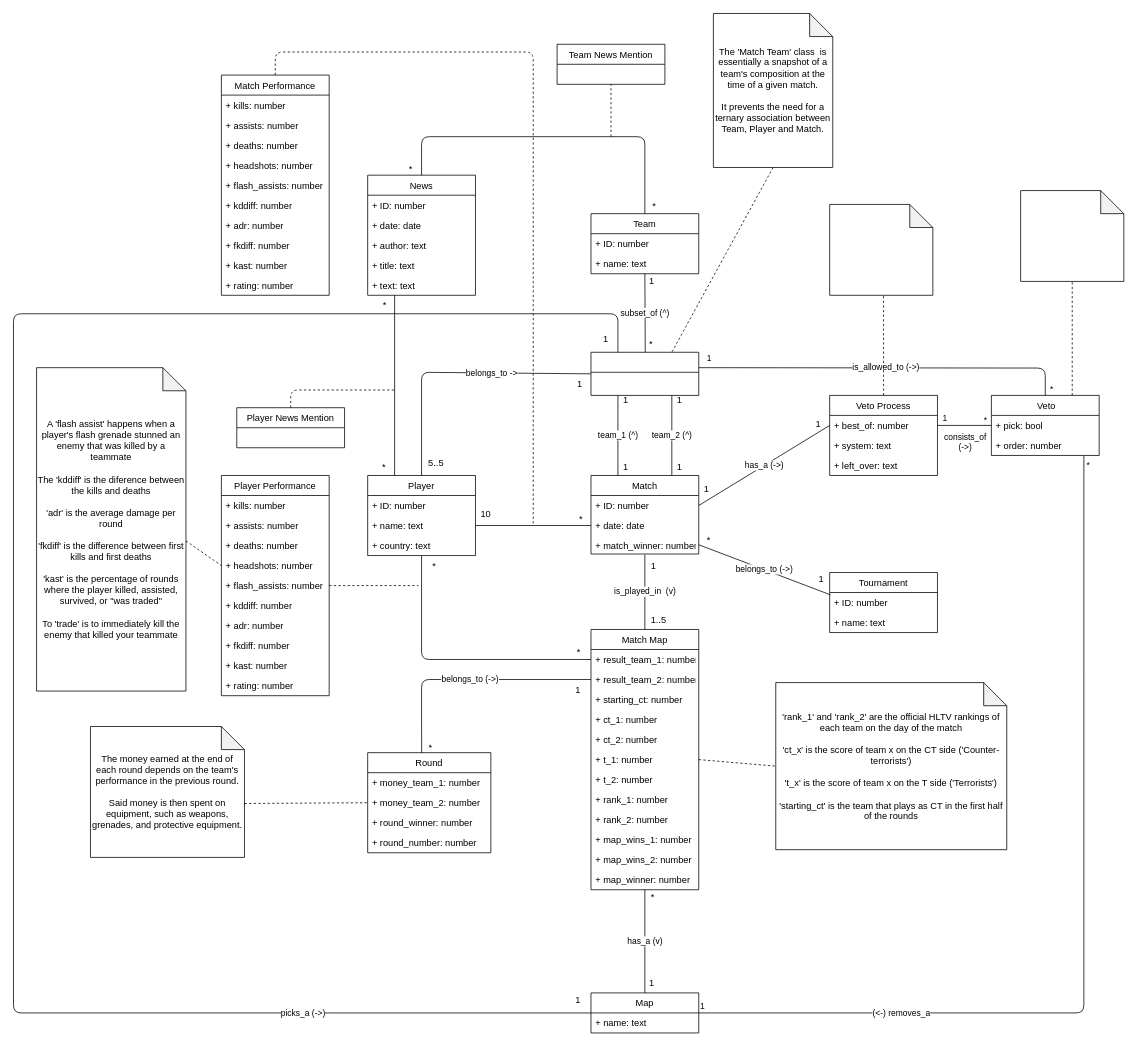
The diagram is 1137 pixels wide and 1049 high, and some of its shapes have lost their labels. The shapes that lost their labels are listed below. From the top down, each one's centre as x and y in pixels, then its label:
At (881,249): "Matches are most commonly played with a best-of-1 or best-of-3 approach.".
At (1072,235): "Teams get the chance to exclude 3 maps (and pick 1)".
At (644,373): "Match Team".
